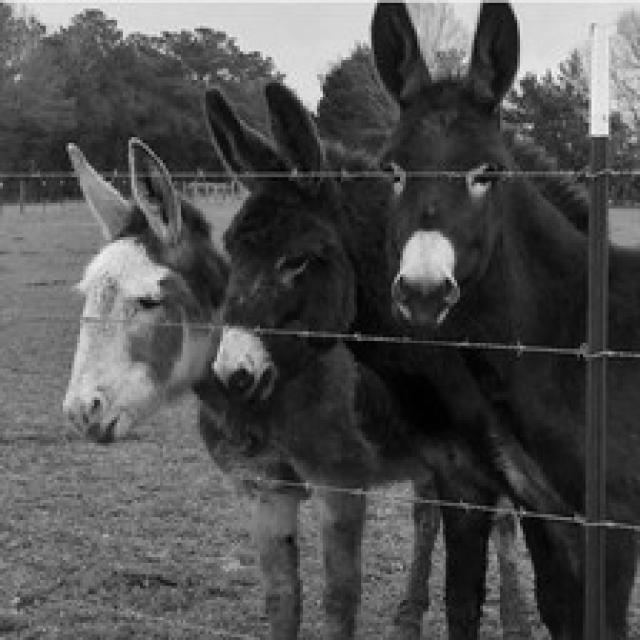Donkey: (60, 134, 534, 637), (366, 0, 637, 637)
